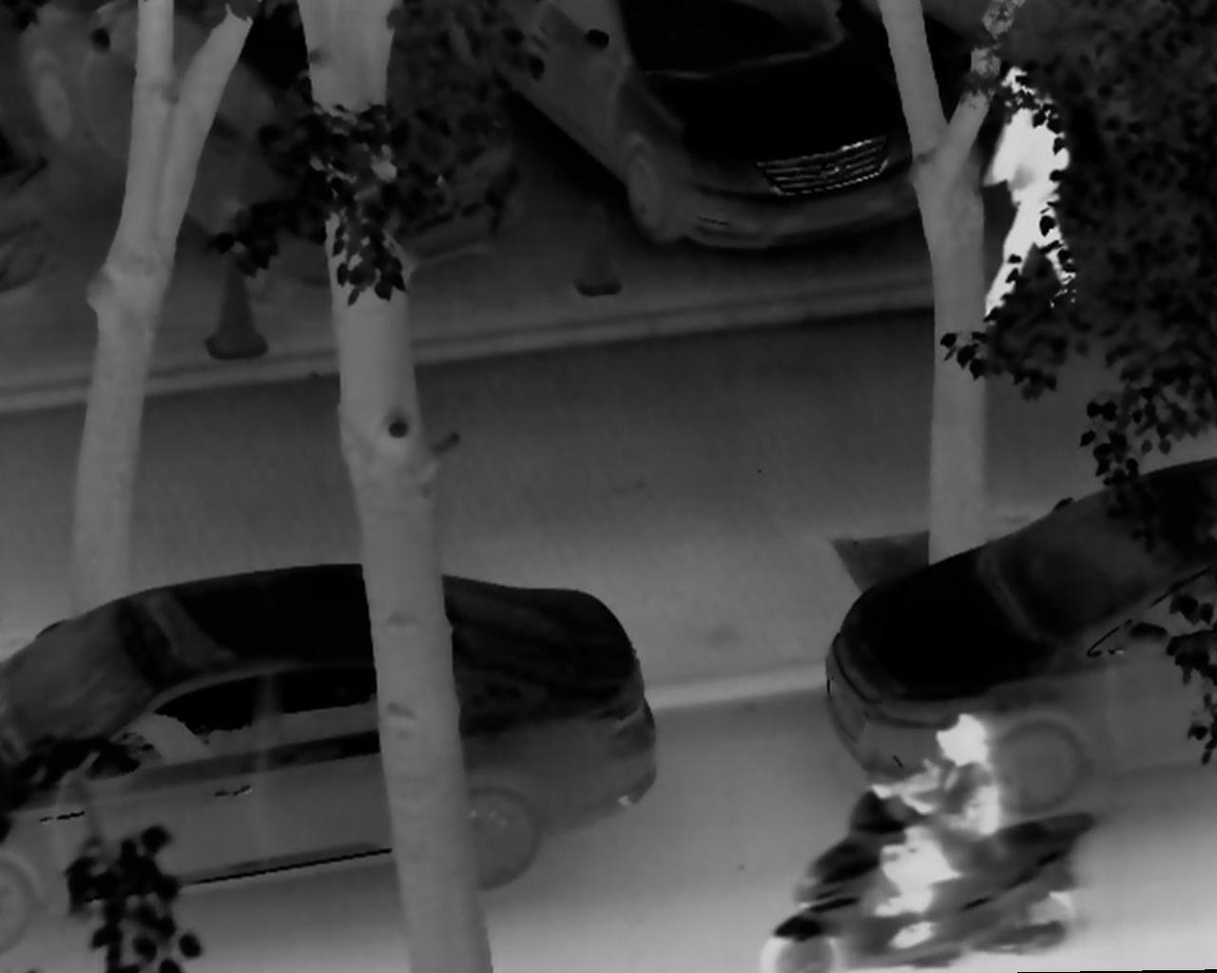person: (964, 21, 1101, 328), (853, 711, 1008, 949)
